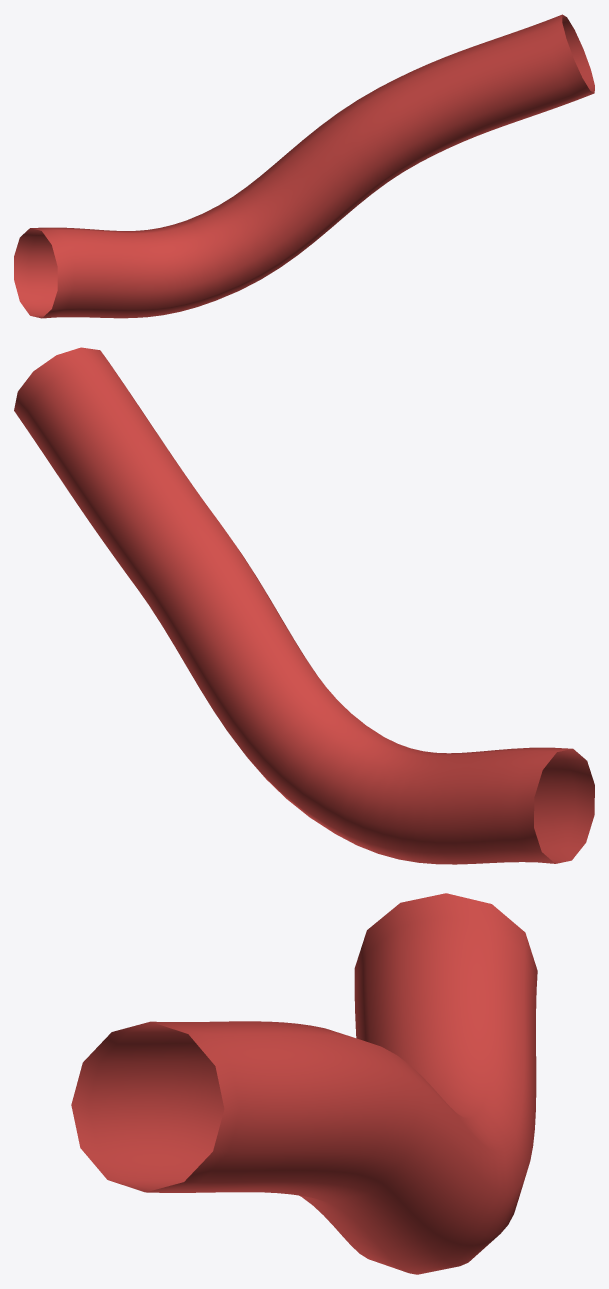
3 renders of one model, top to bottom at view 1: azimuth 30°, elevation 25°; view 2: azimuth 150°, elevation 25°; view 3: azimuth 270°, elevation 25°, orthographic. The views are drawn at different scales.
Visible parts, largest first — view 1: 左结肠动脉; view 2: 左结肠动脉; view 3: 左结肠动脉.
Part boxes in pixels (box(x1,y1,x2,y2)): 左结肠动脉: box(14, 14, 594, 318); 左结肠动脉: box(14, 347, 594, 864); 左结肠动脉: box(71, 893, 537, 1274).
Bounding box in the file's own units: 0.0276 × 0.014 × 0.0113.
